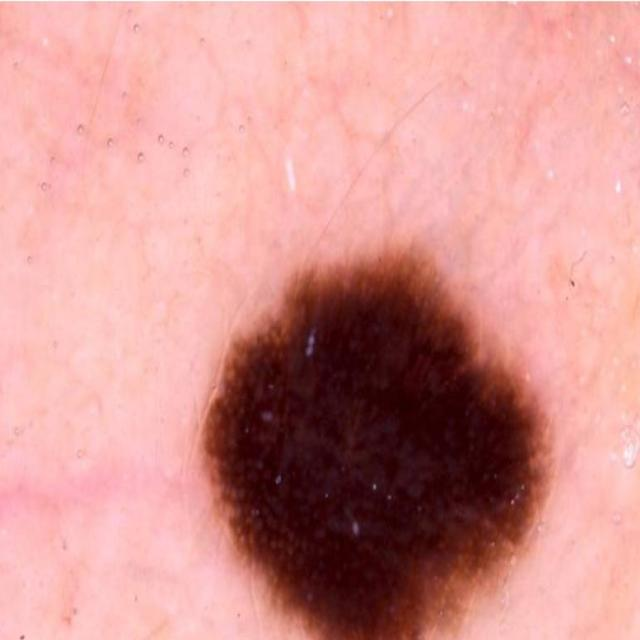Melanoma: (174, 192, 624, 640)
